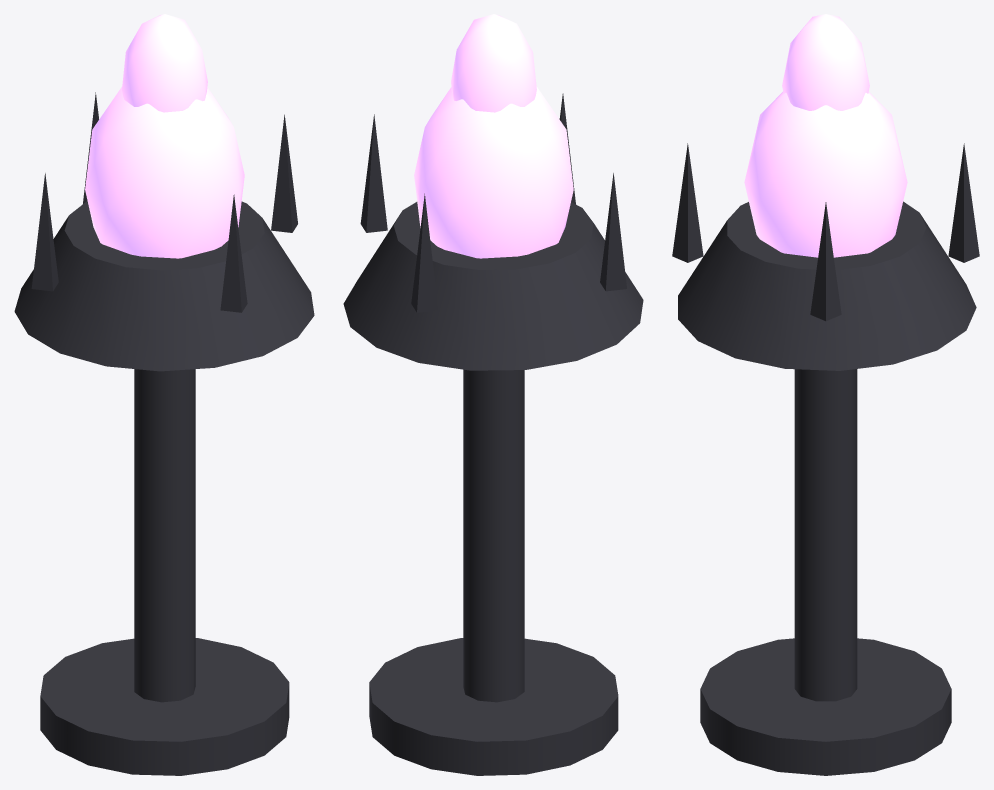
The model's file is voidbrazier.glb.
The picture shows the model from 3 angles, left to right: view 1: azimuth 30°, elevation 25°; view 2: azimuth 150°, elevation 25°; view 3: azimuth 270°, elevation 25°; orthographic projection.
Visible parts, largest first — view 1: building, fire; view 2: building, fire; view 3: building, fire.
Boxes of the visible parts, bbox=[...] form: building: bbox=[14, 92, 314, 775]; fire: bbox=[85, 14, 244, 258]; building: bbox=[343, 93, 643, 775]; fire: bbox=[414, 14, 573, 258]; building: bbox=[672, 143, 979, 775]; fire: bbox=[744, 14, 907, 257].
Bounding box in the file's own units: 0.49 × 1.25 × 0.49.
